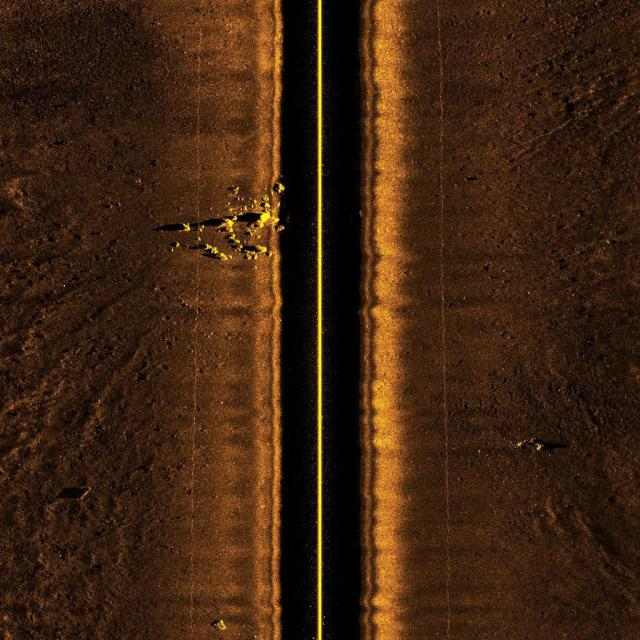mine: (53, 485, 96, 502)
